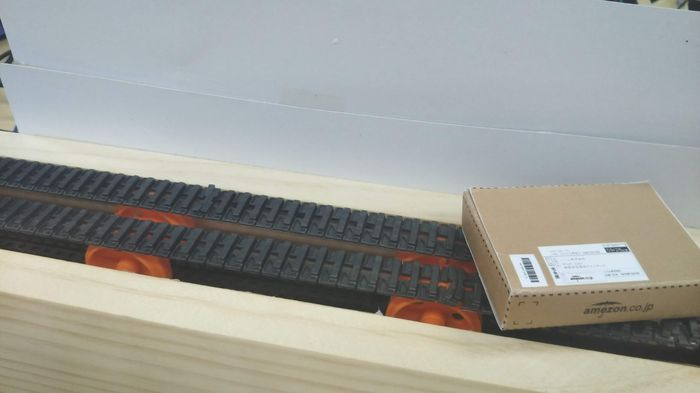box2: (456, 176, 700, 332)
